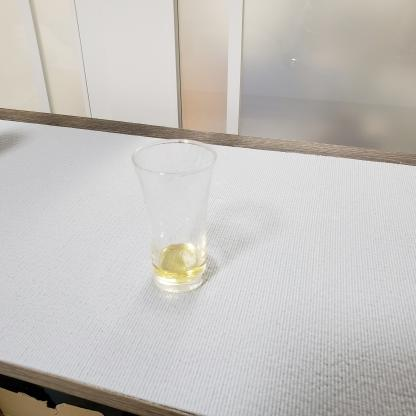glass: (122, 134, 245, 308)
